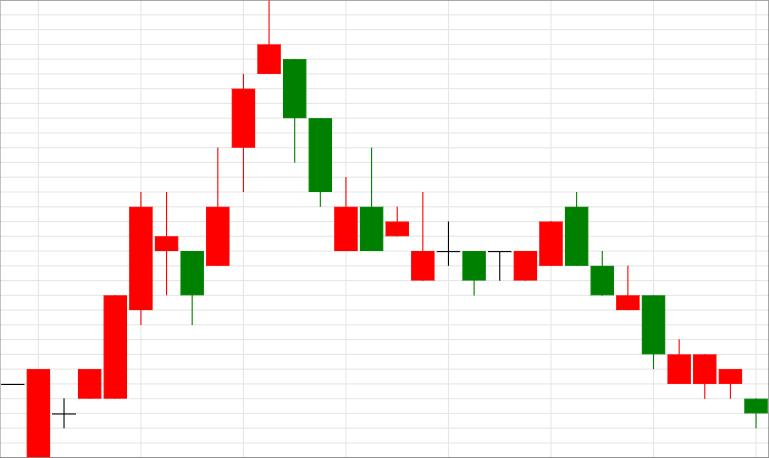inverse_hammer_rise: (283, 59, 434, 281)
shooting_star_fall: (180, 0, 281, 325)
